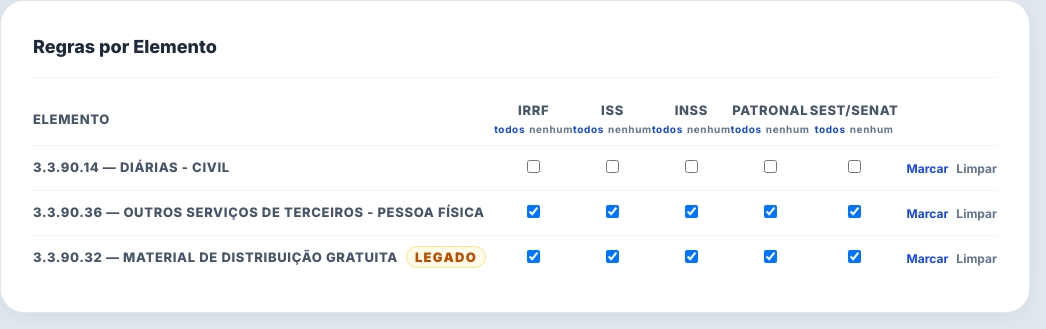
Scenario: RetencoesMatriz › atalho 'todos' da coluna IRRF marca IRRF em todos os elementos
The image size is (1046, 329).
Click the button with aria-label "Marcar IRRF em todos os elementos".
click(510, 130)  # box x1=494 y1=123 x2=525 y2=137
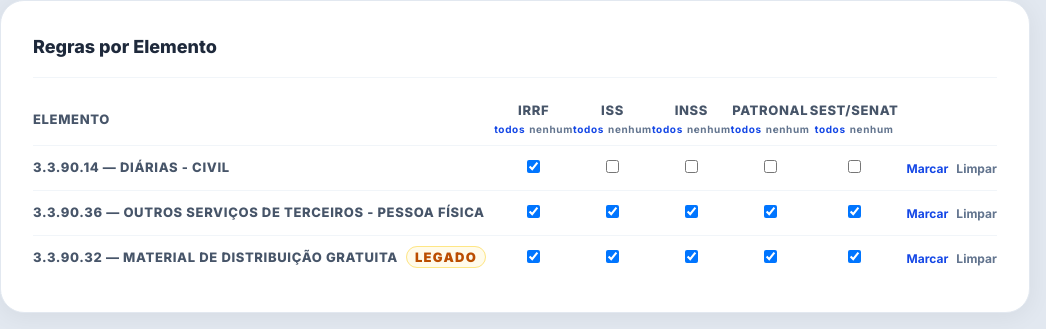
Now the checkbox named "3.3.90.14 aplica IRRF" is checked, box x1=527 y1=160 x2=540 y2=173
